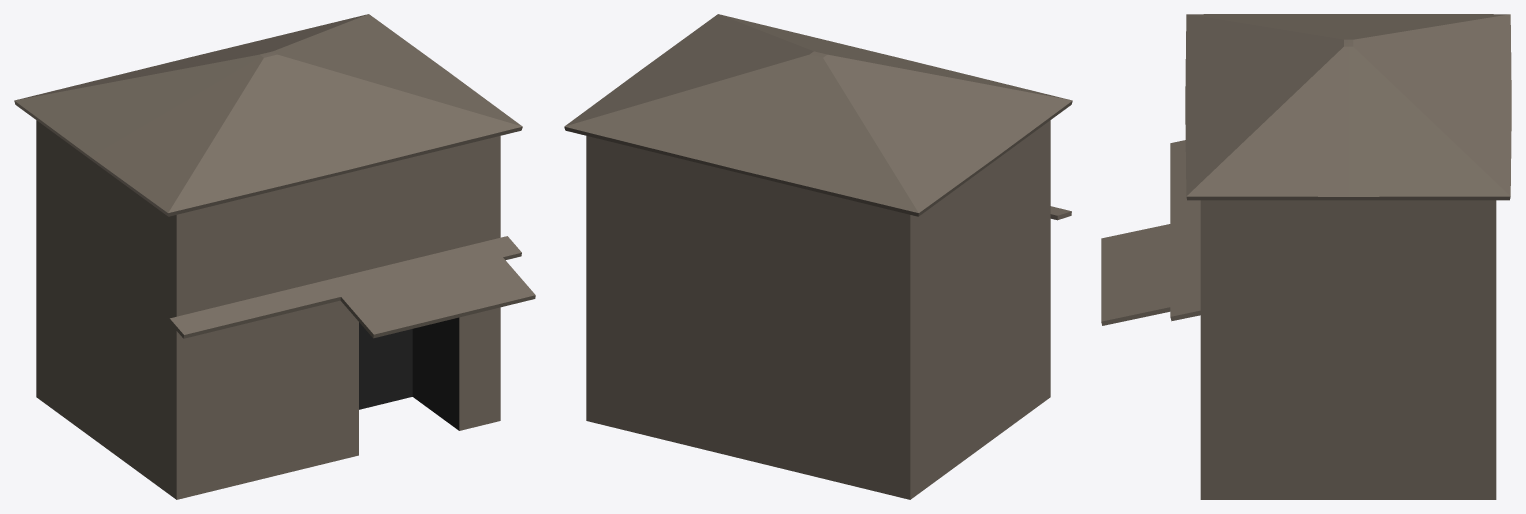
3 renders of one model, left to right at view 1: azimuth 30°, elevation 25°; view 2: azimuth 150°, elevation 25°; view 3: azimuth 270°, elevation 25°, orthographic. The views are drawn at different scales.
Visible parts, largest first — view 1: H02_Main_Collision; view 2: H02_Main_Collision; view 3: H02_Main_Collision.
Boxes of the visible parts, bbox=[...] form: H02_Main_Collision: bbox=[14, 14, 535, 499]; H02_Main_Collision: bbox=[564, 14, 1072, 499]; H02_Main_Collision: bbox=[1101, 14, 1511, 499].
Size of the model in its own units: 439 by 419 by 417.
